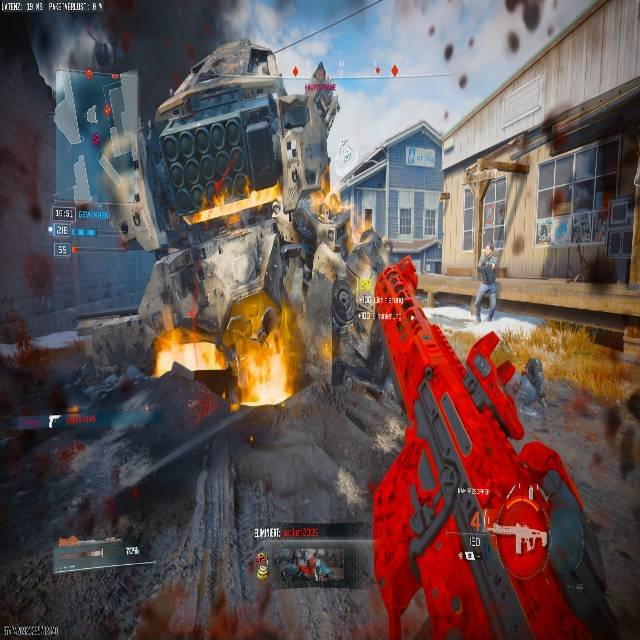head: (485, 247, 496, 262), (485, 242, 494, 252)
player: (472, 244, 500, 322)
